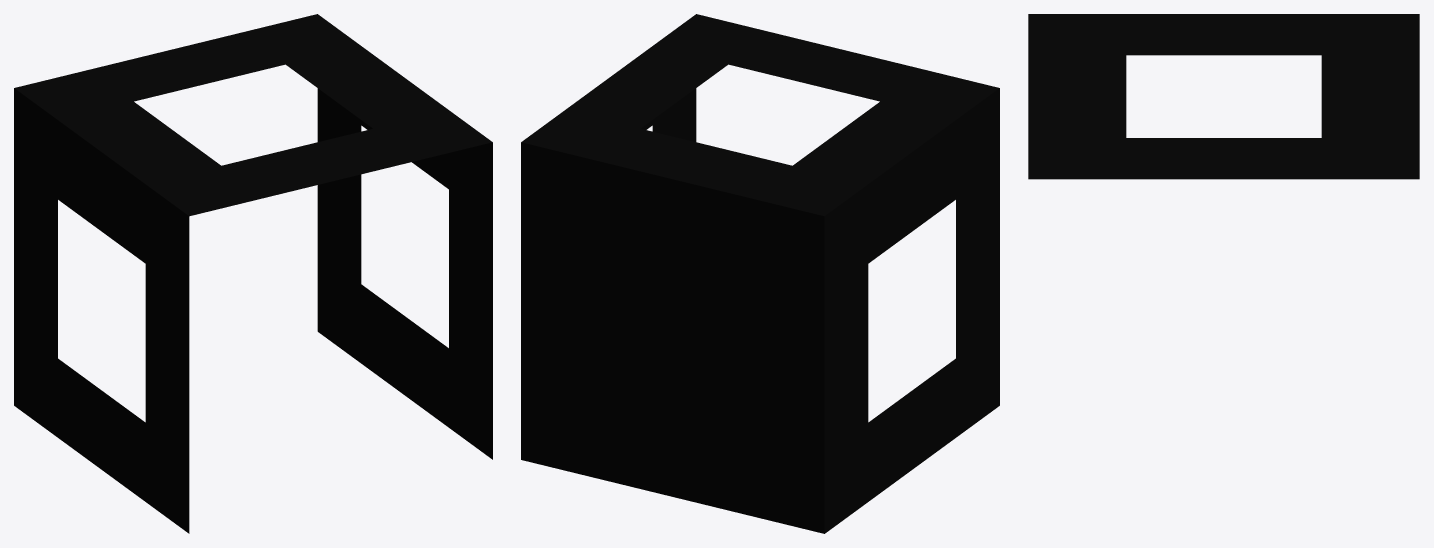
File: mrtk-fluent-button.glb
3 views of the same model, side by side, from view 1: azimuth 30°, elevation 25°; view 2: azimuth 150°, elevation 25°; view 3: azimuth 270°, elevation 25° (orthographic). The views are drawn at different scales.
Visible parts, largest first — view 1: mrtk-fluent-button; view 2: mrtk-fluent-button; view 3: mrtk-fluent-button.
Part boxes in pixels (x1,y1,x2,y2): mrtk-fluent-button: (14,14,492,533); mrtk-fluent-button: (521,14,999,533); mrtk-fluent-button: (1028,14,1419,179).
Bounding box in the file's own units: 1 × 1 × 1.
Materials: 1 (1 with a texture image).
